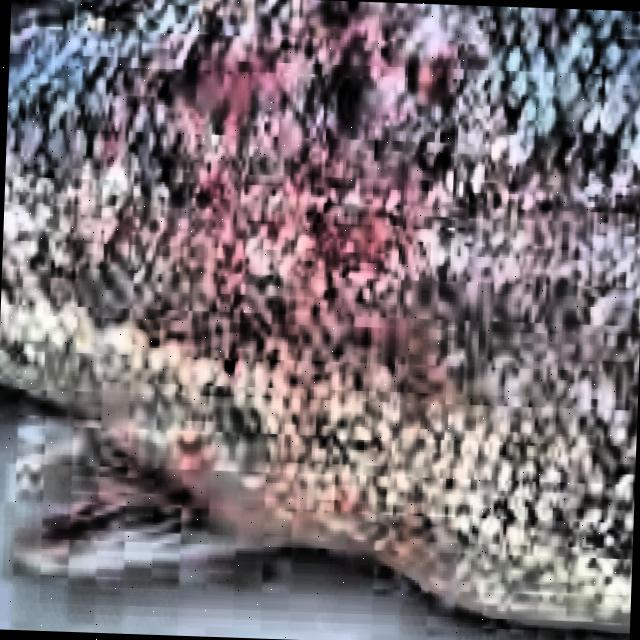mild_red: (0, 0, 640, 618)
